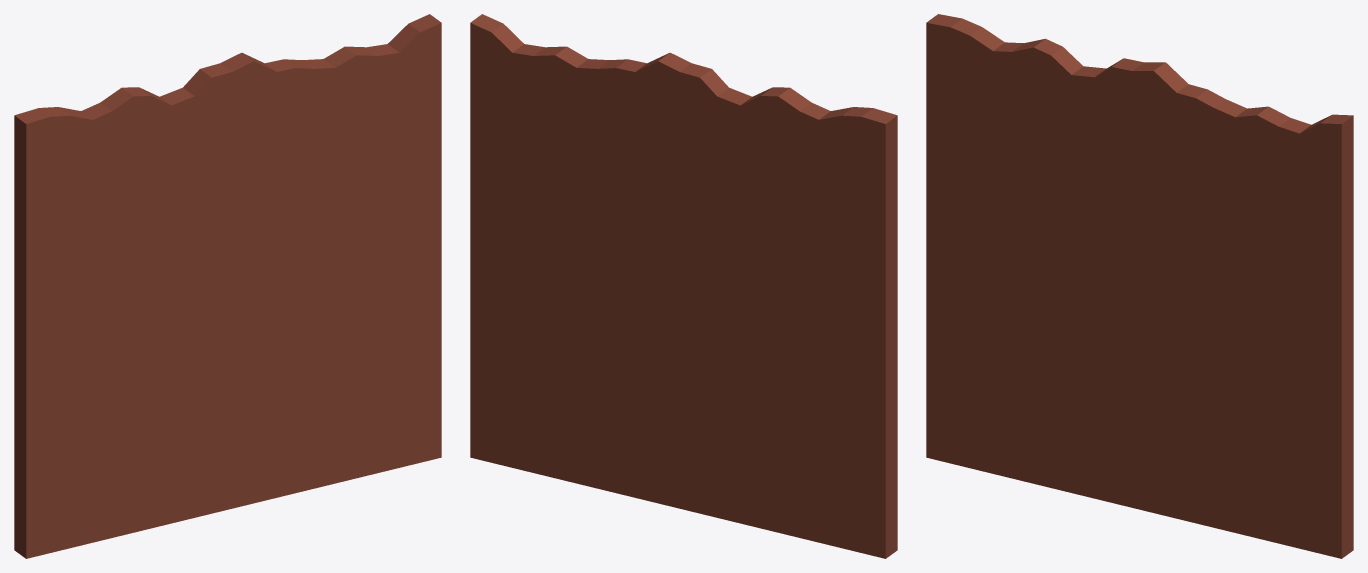
Rendered from tile01.001.glb.
3 renders of one model, left to right at view 1: azimuth 30°, elevation 25°; view 2: azimuth 150°, elevation 25°; view 3: azimuth 330°, elevation 25°, orthographic.
Parts seen in each view (by area): view 1: 01.001; view 2: 01.001; view 3: 01.001.
Boxes of the visible parts, bbox=[...] form: 01.001: bbox=[14, 14, 441, 558]; 01.001: bbox=[470, 14, 897, 558]; 01.001: bbox=[926, 14, 1353, 558].
Bounding box in the file's own units: 2 × 2.03 × 0.1.
Materials: 1 (1 with a texture image).
